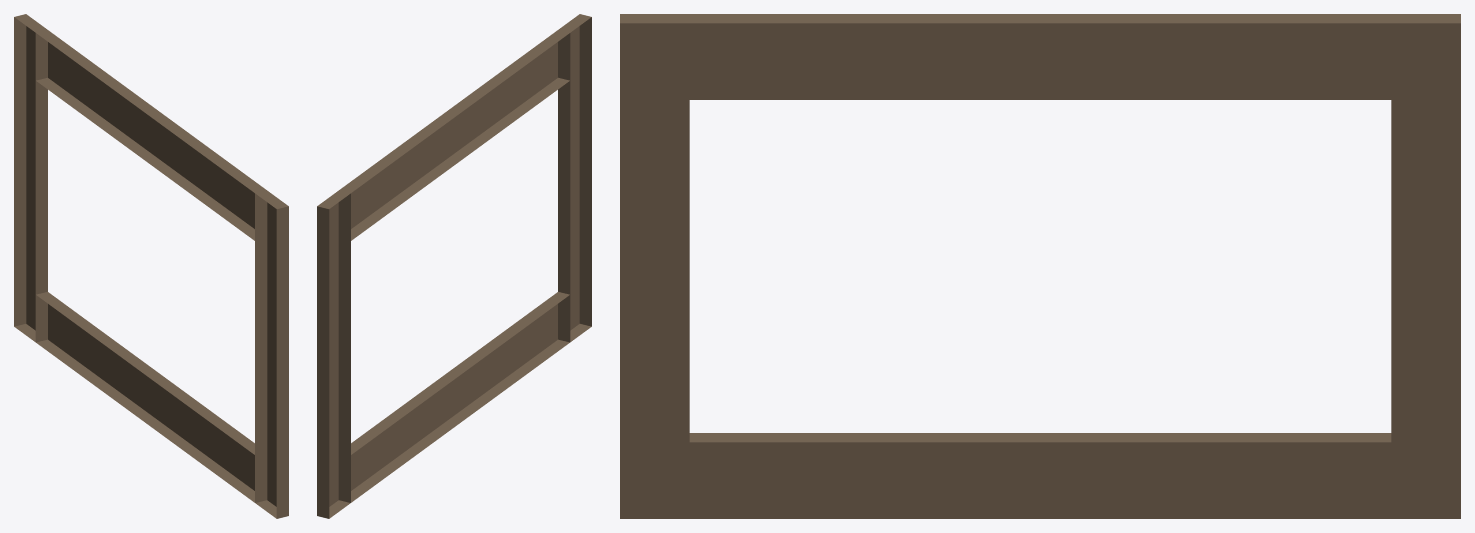
File: keep-wd02_70.obj
3 renders of one model, left to right at view 1: azimuth 30°, elevation 25°; view 2: azimuth 150°, elevation 25°; view 3: azimuth 270°, elevation 25°, orthographic. The views are drawn at different scales.
Bounding box in the file's own units: 0.03 × 0.7344 × 1.13.
Materials: 1 (1 with a texture image).
